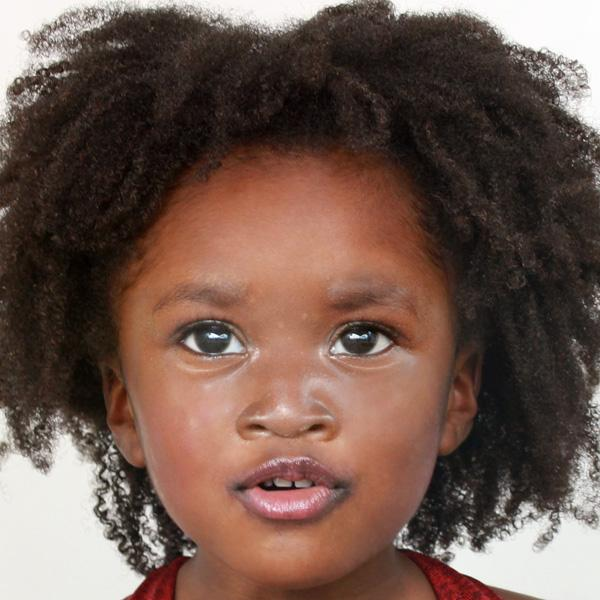Eyes: (165, 309, 258, 366), (317, 314, 412, 364)
